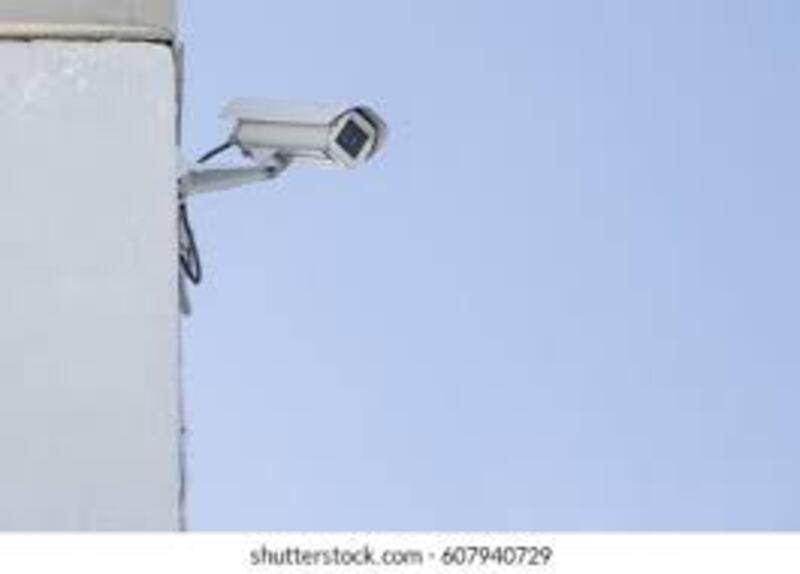box: (216, 85, 396, 175)
